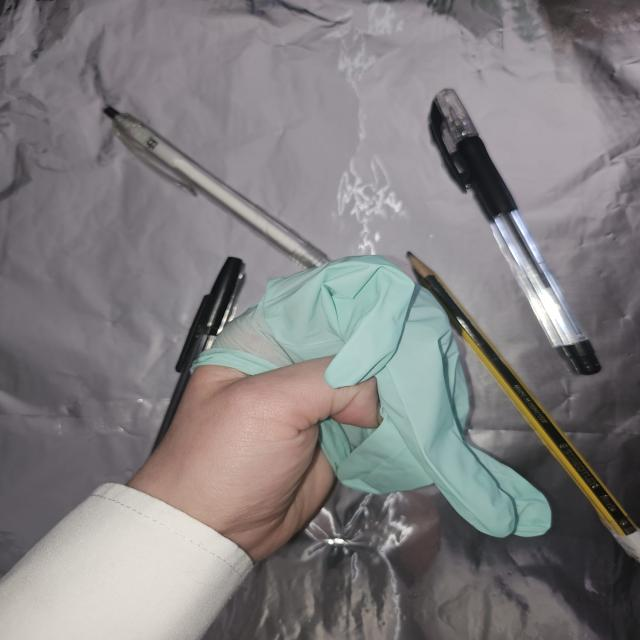glove_partial: (124, 254, 553, 560)
